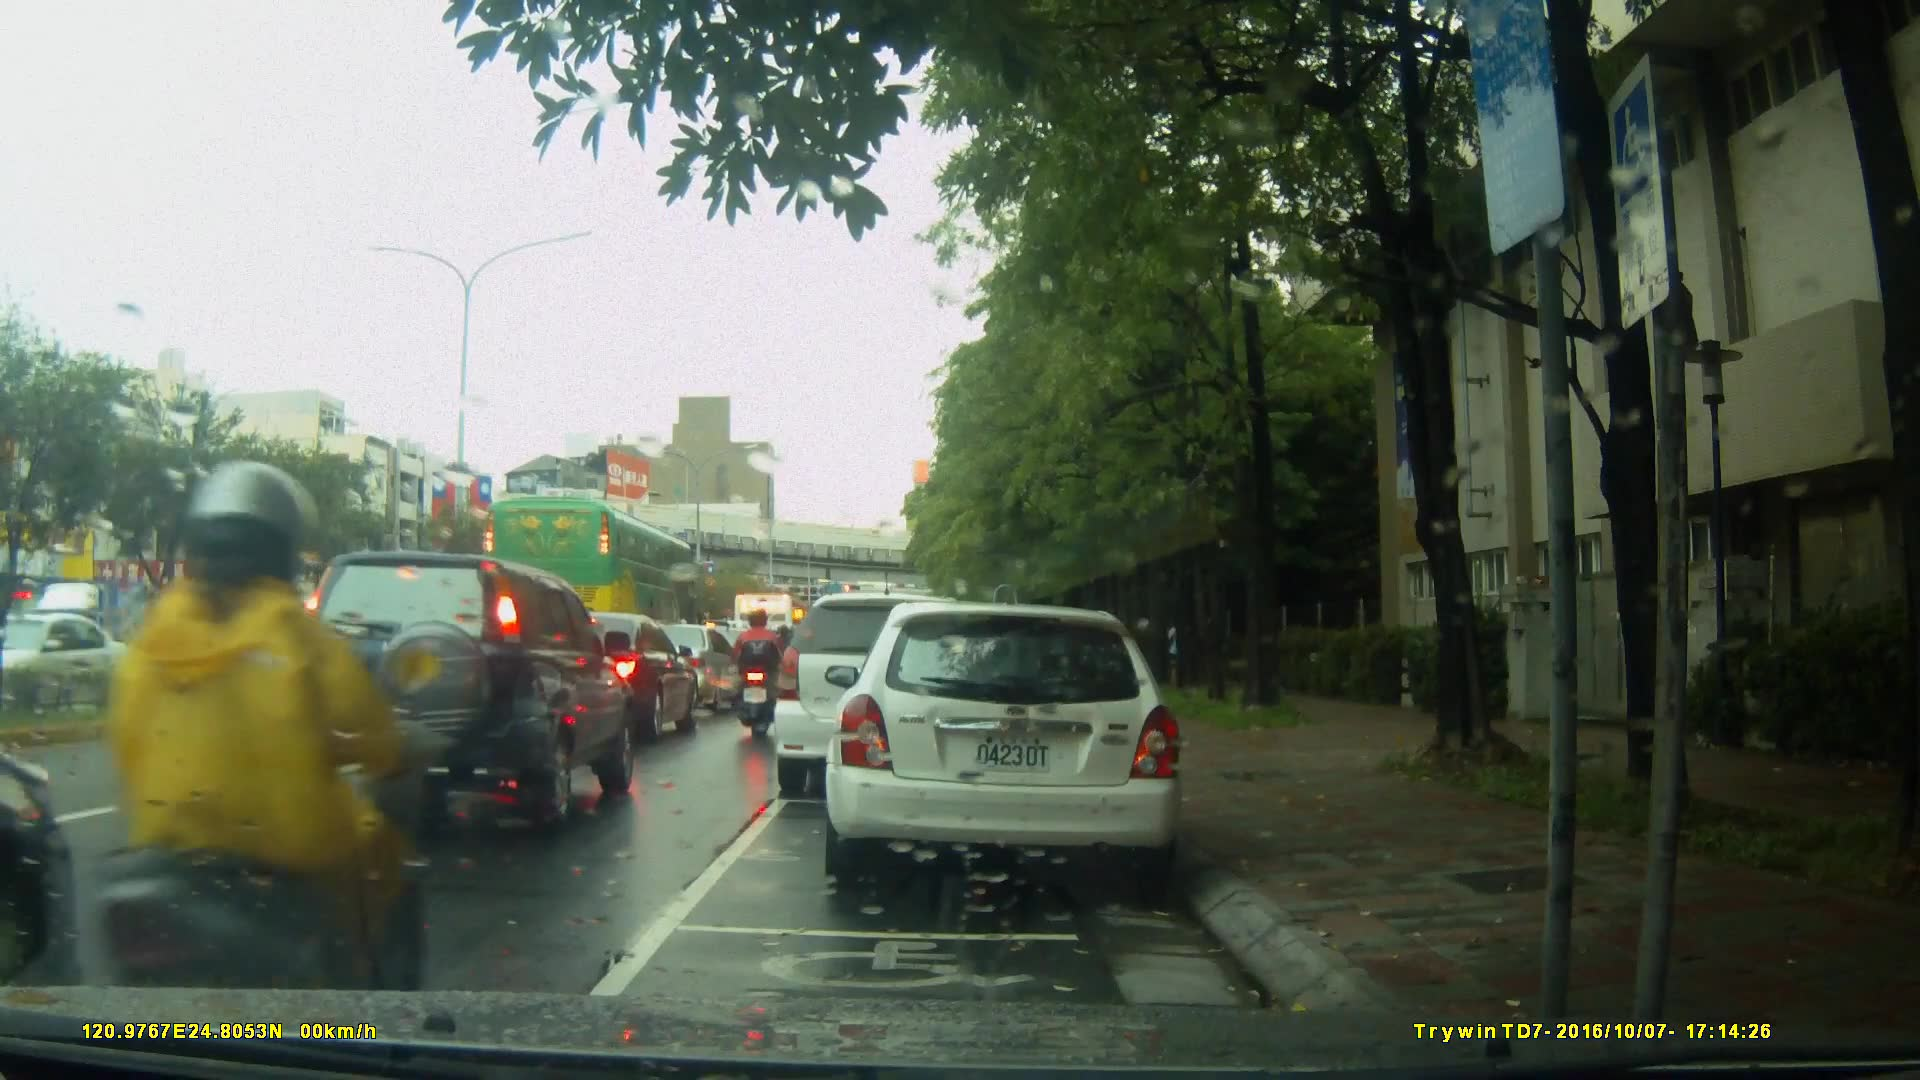rider: (93, 456, 428, 1065), (731, 612, 786, 735)
vehicle: (831, 592, 1196, 897), (287, 549, 621, 824), (770, 592, 999, 801), (478, 494, 714, 659), (507, 610, 702, 748), (22, 576, 164, 684), (1, 613, 155, 709), (633, 623, 749, 717)
